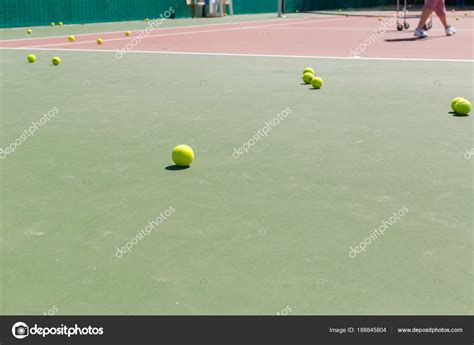tennis_ball: (171, 144, 195, 168), (456, 99, 473, 116), (310, 77, 324, 90), (302, 71, 315, 84), (450, 97, 462, 109), (51, 56, 61, 67), (27, 54, 36, 64), (302, 67, 314, 74), (96, 37, 103, 45), (67, 35, 74, 42), (26, 28, 33, 35), (125, 30, 131, 36)
